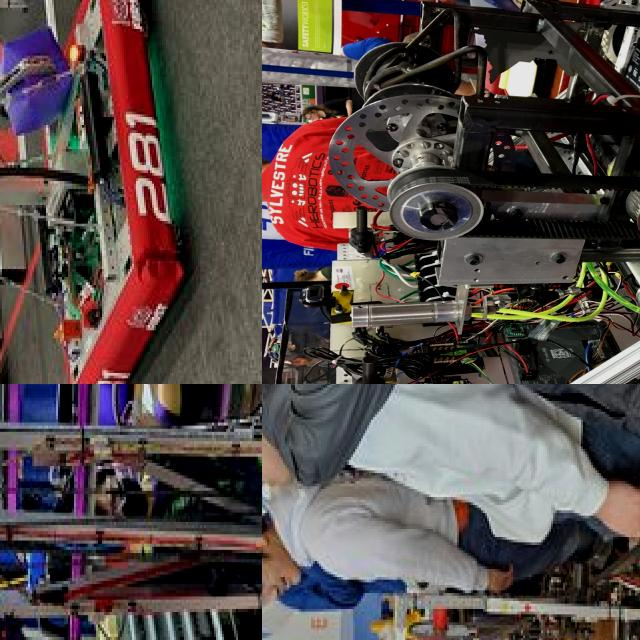FRC-Robots: (272, 0, 640, 384), (0, 384, 262, 640), (0, 0, 160, 384), (352, 520, 640, 640)
